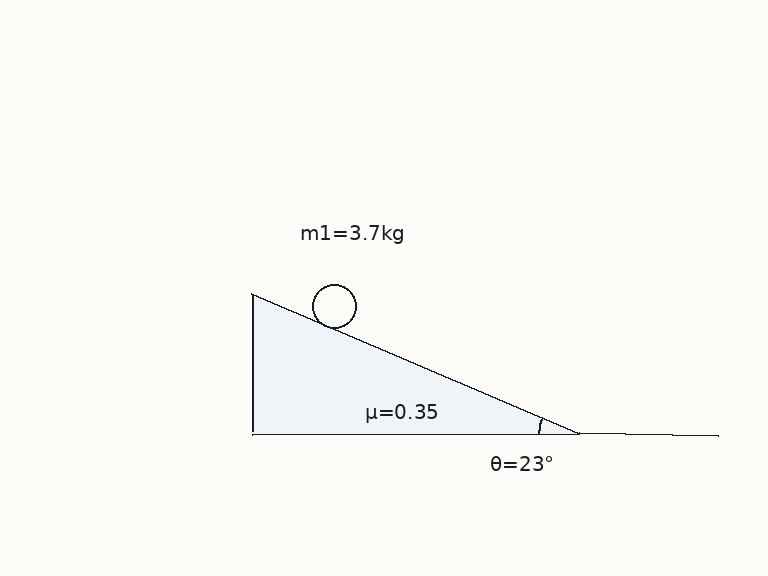ball: (310, 282, 358, 330)
ramp: (250, 293, 581, 436)
